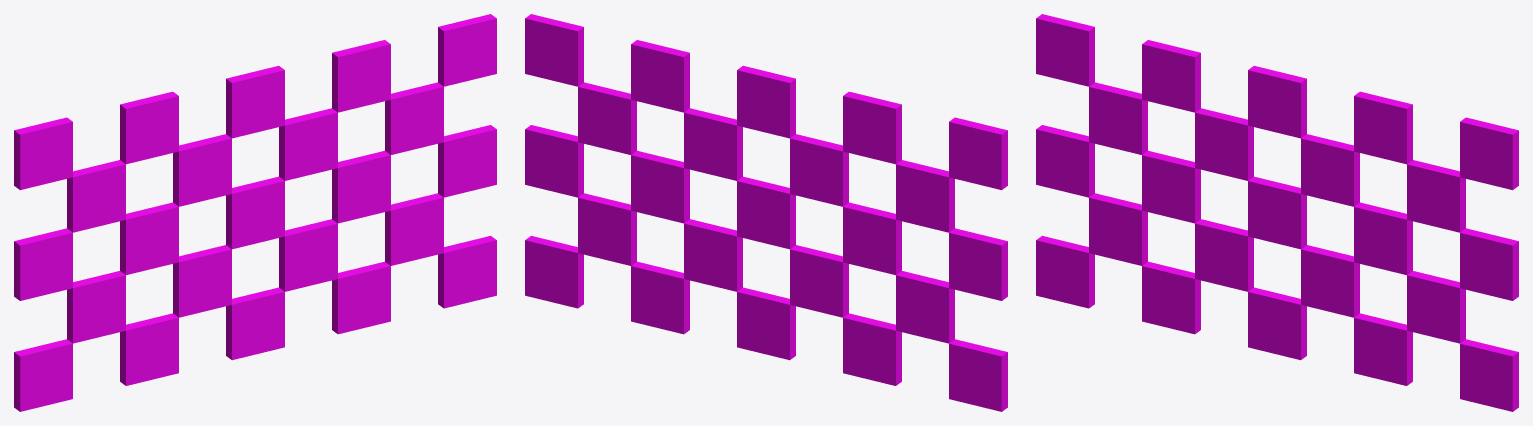
File: finish.fbx
The picture shows the model from 3 angles, left to right: view 1: azimuth 30°, elevation 25°; view 2: azimuth 150°, elevation 25°; view 3: azimuth 330°, elevation 25°; orthographic projection.
Visible parts, largest first — view 1: Cube.013; view 2: Cube.013; view 3: Cube.013.
Part boxes in pixels (<box>): Cube.013: <box>14,14,496,411</box>; Cube.013: <box>525,14,1007,411</box>; Cube.013: <box>1036,14,1518,411</box>.
Size of the model in its own units: 180 by 100 by 4.
